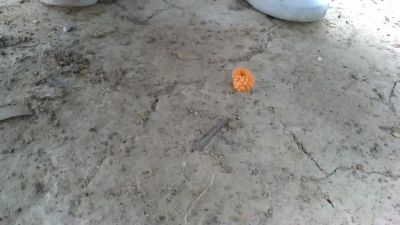eggs: (229, 63, 256, 95)
